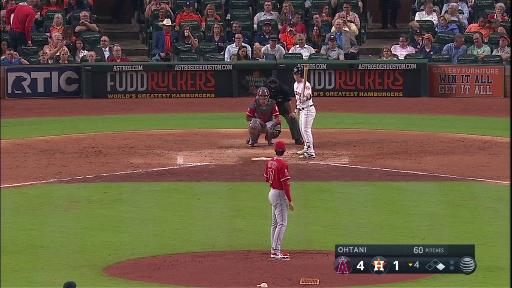pitcher: (266, 141, 296, 259)
